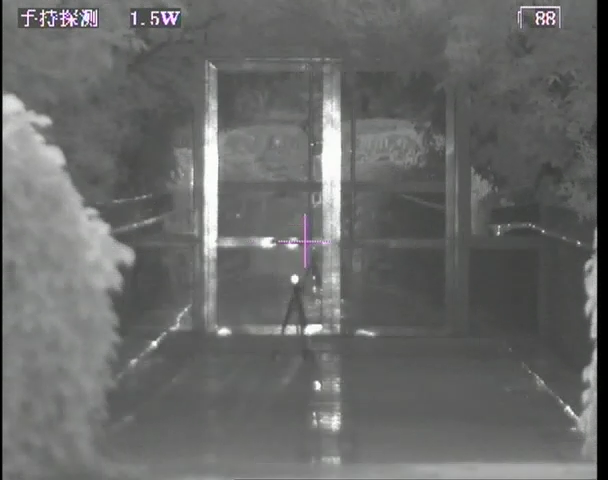my: (289, 272, 301, 287)
